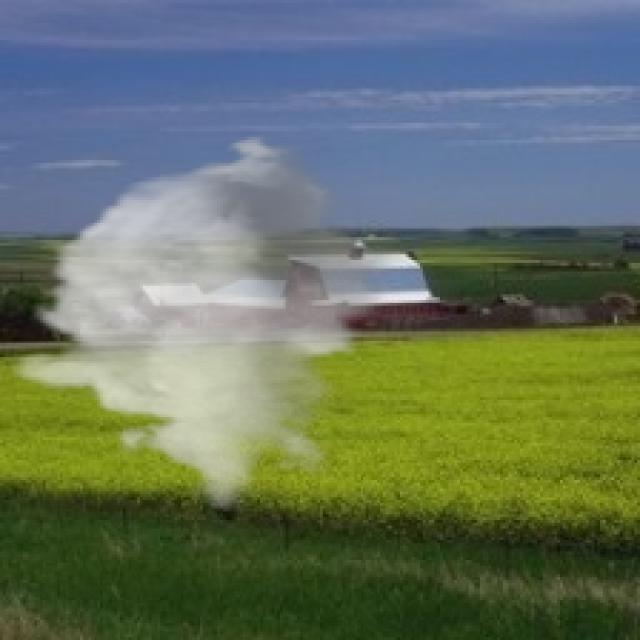smoke: (6, 132, 400, 512)
